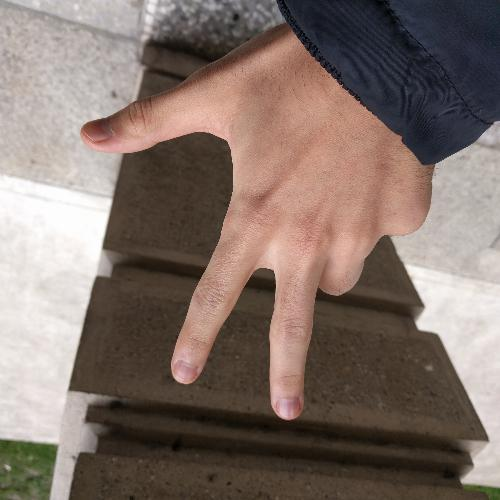scissors: (75, 24, 440, 430)
